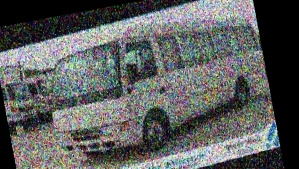bus: (30, 0, 278, 169)
